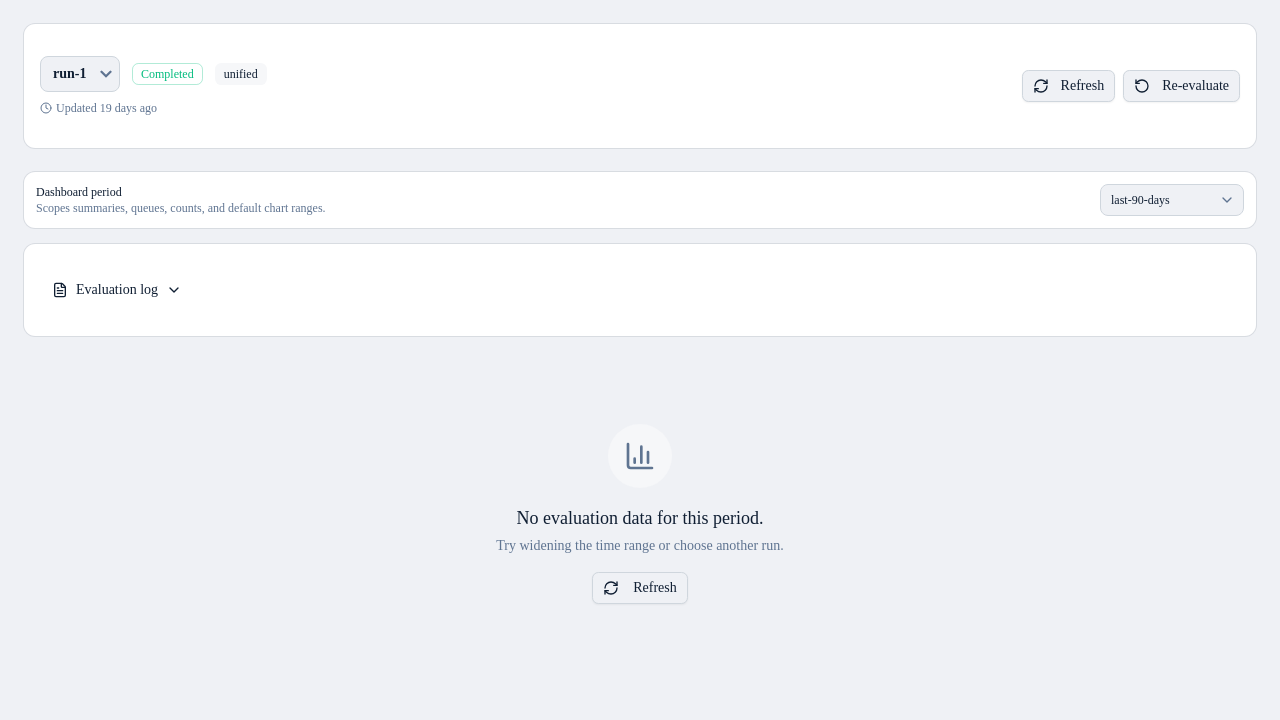
Scenario: Monitor page evaluation configuration › keeps the dialog open with the launch error and skips refetching
Click the button "Re-evaluate".
click(1182, 86)  # box [1123,70,1240,102]
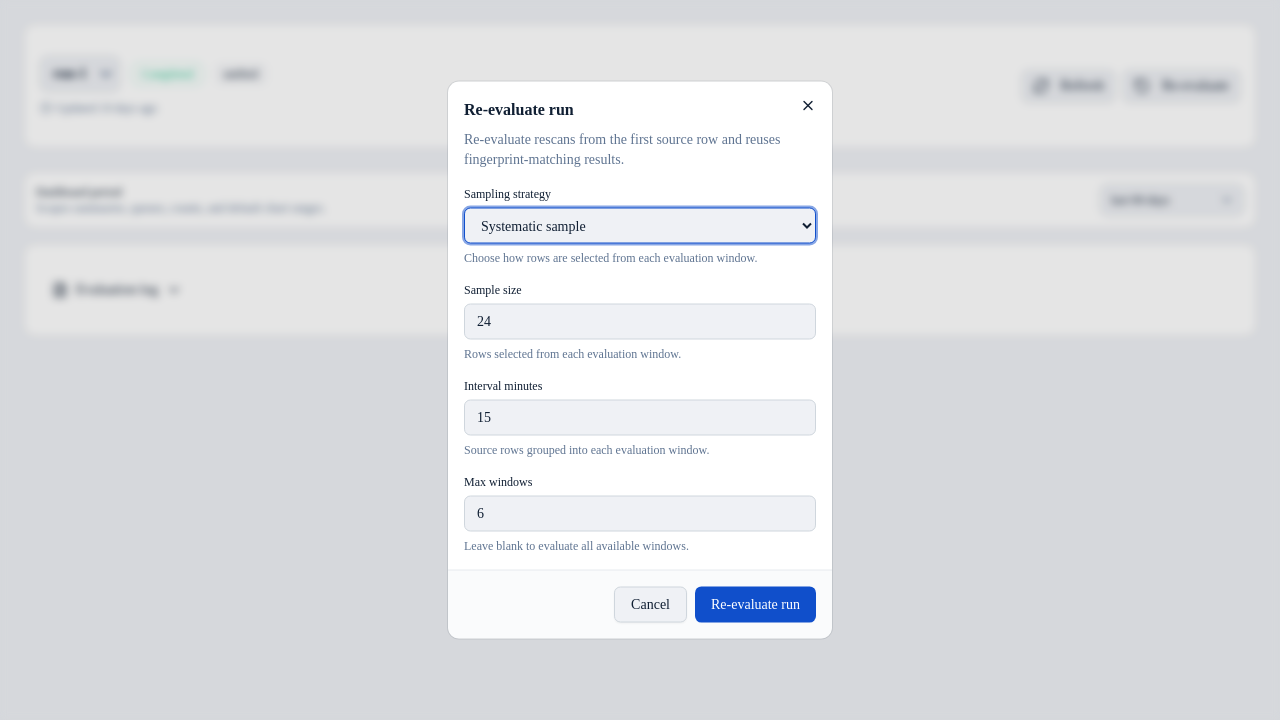
Click the button "Re-evaluate run".
click(756, 604)  # box [695,586,816,622]
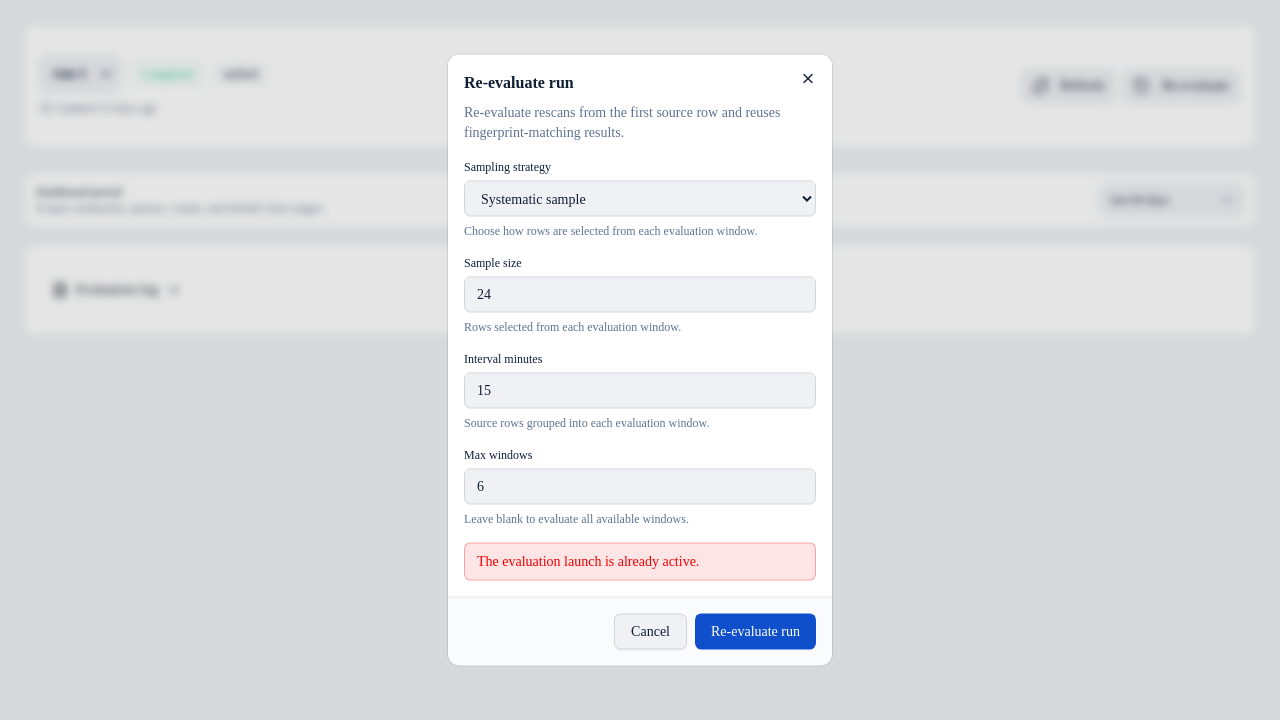
Expected: the heading "Re-evaluate run" is shown, [464,74,574,90]
Expected: the text "The evaluation launch is already active." is shown, [464,542,816,580]
